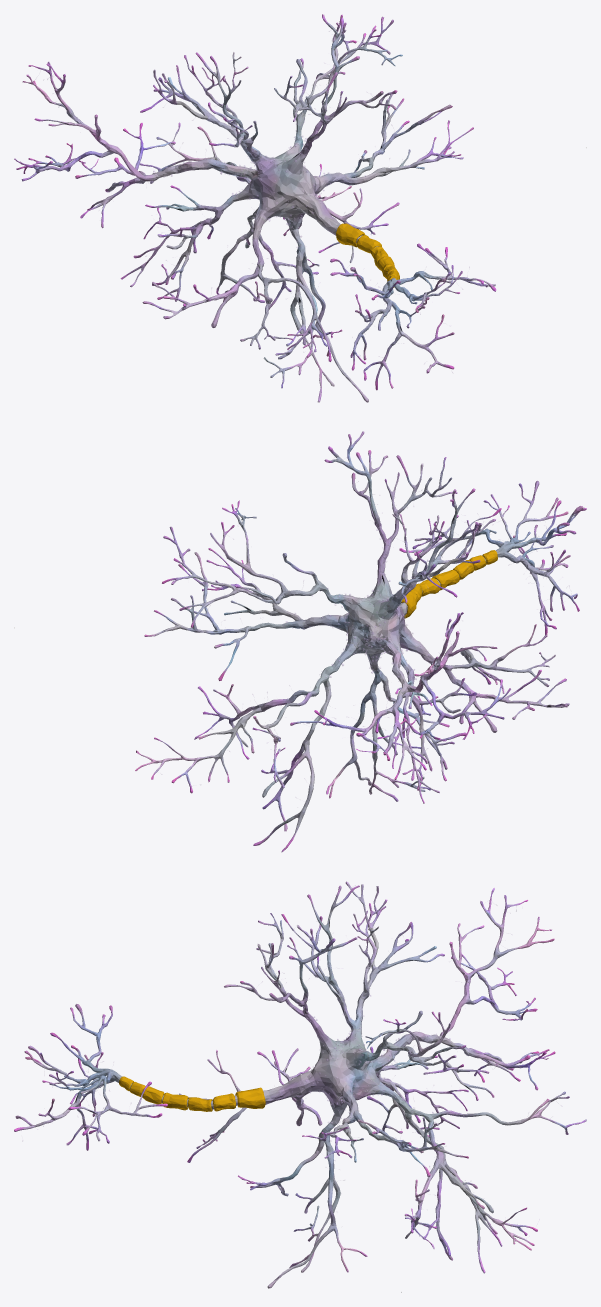
Rendered from neuron.glb.
3 views of the same model, one above another, from view 1: azimuth 30°, elevation 25°; view 2: azimuth 150°, elevation 25°; view 3: azimuth 270°, elevation 25° (orthographic). The views are drawn at different scales.
Visible parts, largest first — view 1: primitive_2, primitive_3, primitive_0; view 2: primitive_2, primitive_3, primitive_0; view 3: primitive_2, primitive_3, primitive_0.
Boxes of the visible parts, x1,y1,x2,y2 form: primitive_2: [14, 14, 586, 402]; primitive_3: [336, 223, 399, 287]; primitive_0: [35, 31, 469, 372]; primitive_2: [14, 431, 586, 852]; primitive_3: [401, 550, 497, 618]; primitive_0: [162, 454, 569, 797]; primitive_2: [14, 881, 586, 1292]; primitive_3: [119, 1076, 265, 1111]; primitive_0: [22, 885, 562, 1236].
Bounding box in the file's own units: 4.48 × 2.97 × 4.28.
5 materials, 5 textured.
